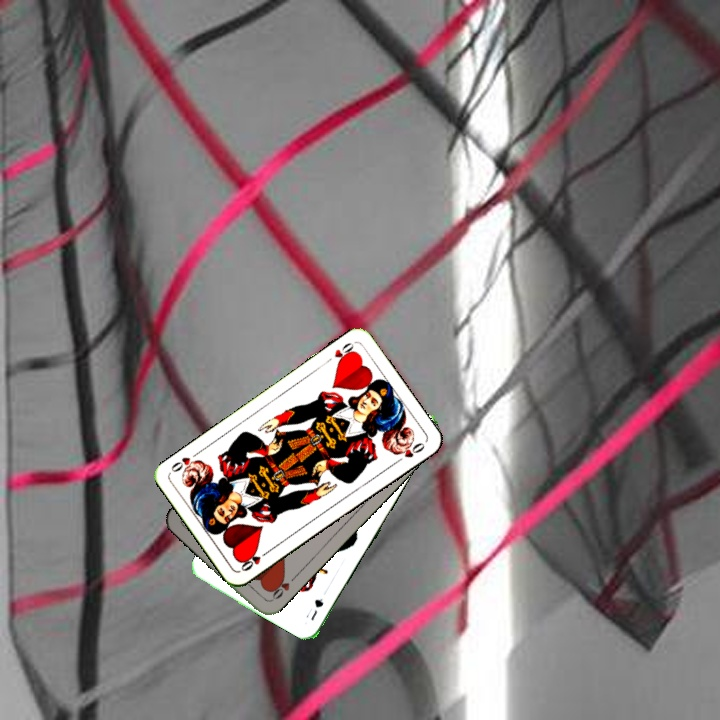GU: (307, 594, 326, 623)
HO: (265, 572, 299, 604), (237, 546, 272, 574), (330, 338, 358, 367)
